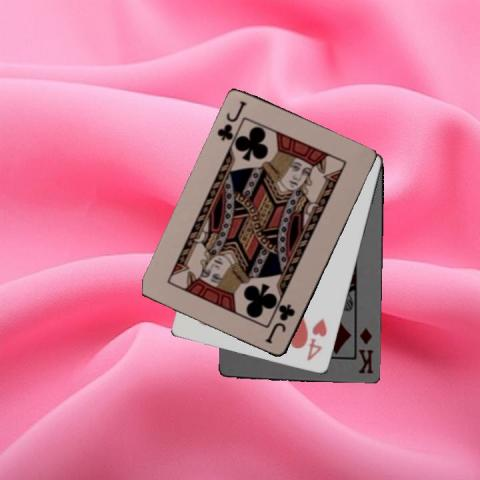4h: (304, 315, 329, 362)
Jc: (214, 98, 249, 143), (263, 301, 297, 346)
Kd: (356, 325, 376, 375)
